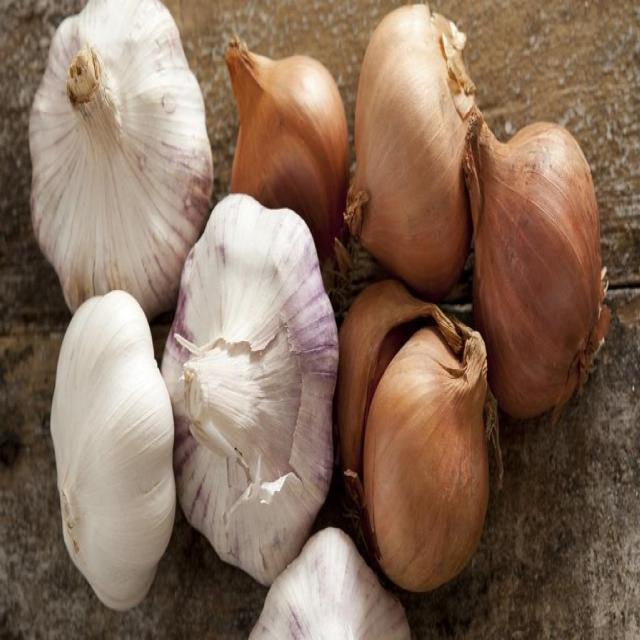onion: (476, 92, 616, 410), (363, 304, 501, 603), (346, 1, 475, 304), (225, 16, 352, 242)
